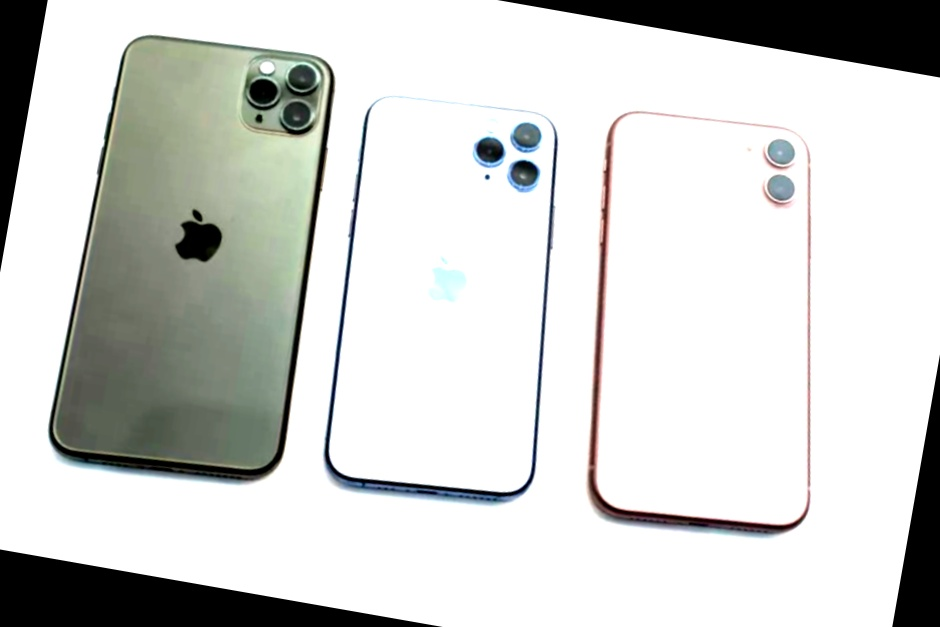iphone: (65, 74, 382, 520), (581, 158, 877, 626), (337, 141, 620, 569)
